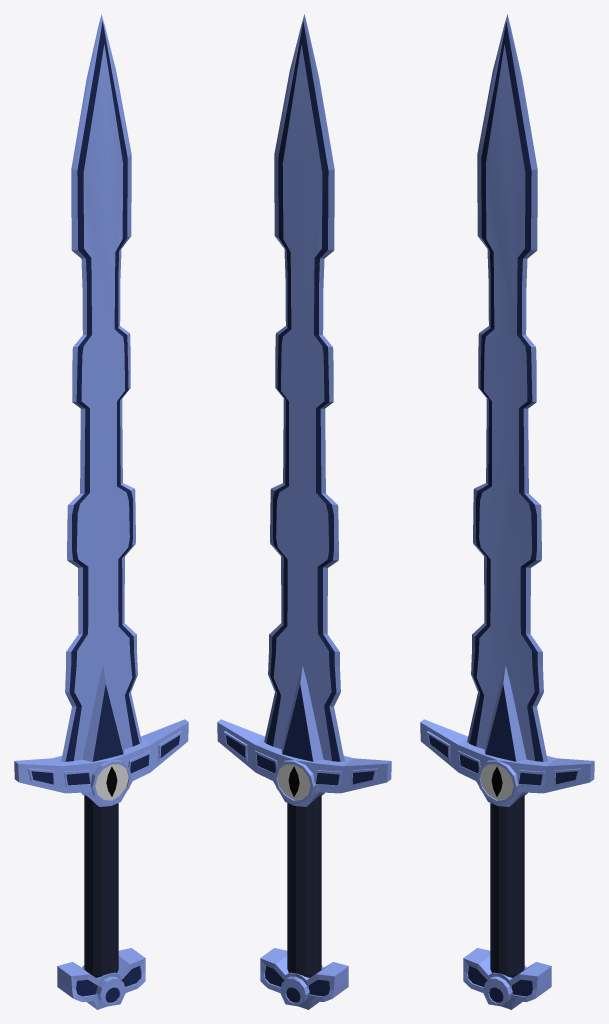
Rendered from longsword_mana_steal.fbx.
3 renders of one model, left to right at view 1: azimuth 30°, elevation 25°; view 2: azimuth 150°, elevation 25°; view 3: azimuth 330°, elevation 25°, orthographic.
Parts seen in each view (by area): view 1: LongSword_ManaSteal; view 2: LongSword_ManaSteal; view 3: LongSword_ManaSteal.
Part boxes in pixels (x1,y1,x2,y2): LongSword_ManaSteal: (14,14,188,1009); LongSword_ManaSteal: (217,14,391,1009); LongSword_ManaSteal: (420,14,594,1009).
Size of the model in its own units: 0.0797 by 1.9 by 0.3427.
